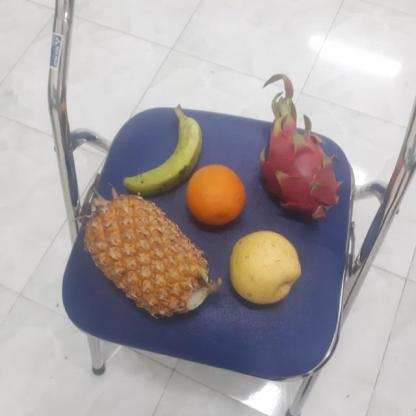banana: (118, 110, 202, 192)
orange: (182, 165, 248, 228)
pear: (223, 230, 303, 304)
pineapple: (81, 193, 216, 319)
pitaya: (257, 125, 340, 226)
